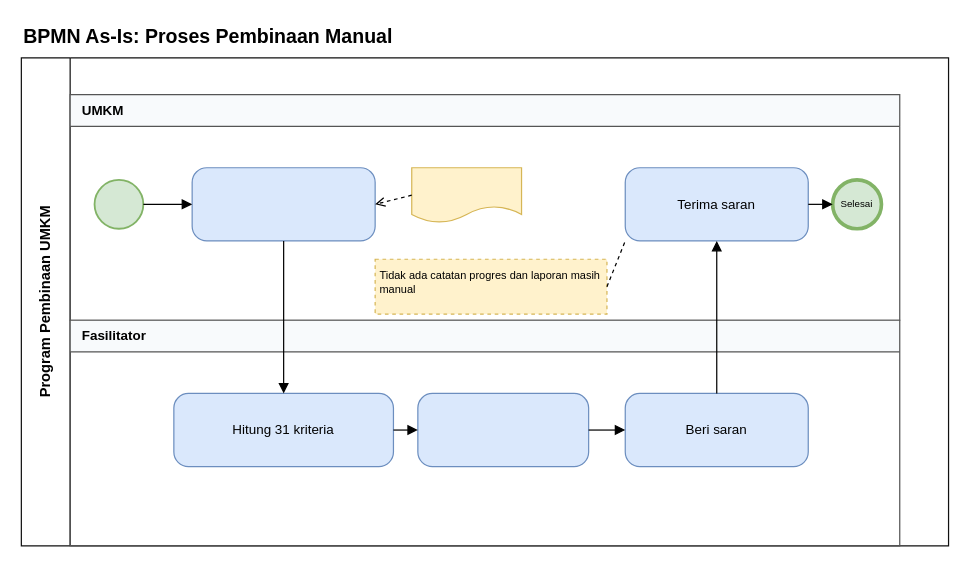
This 970x567 diagram has some shape labels left out. The shapes that lost their labels are listed below. From the top down, each one's centre as x and y in pixels, then its label:
the point at 118,203: Mulai
the point at 283,204: Isi formulir
the point at 466,195: Formulir
the point at 503,429: Tentukan segmen
